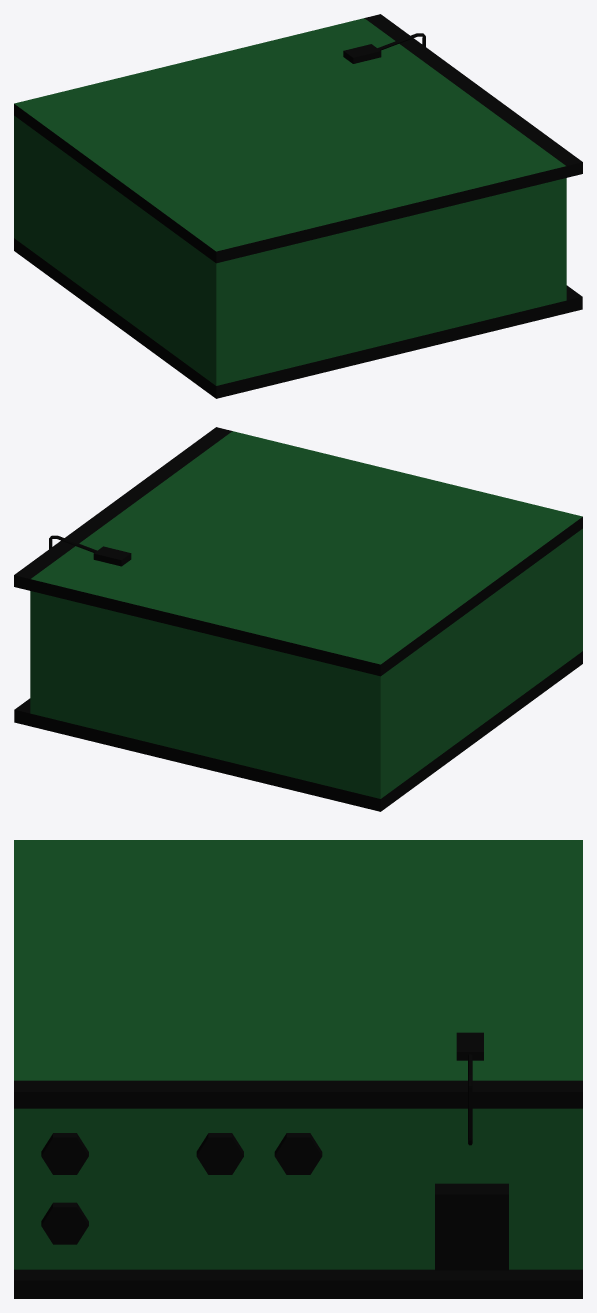
File: radio.fbx
3 renders of one model, top to bottom at view 1: azimuth 30°, elevation 25°; view 2: azimuth 150°, elevation 25°; view 3: azimuth 270°, elevation 25°, orthographic. The views are drawn at different scales.
Parts seen in each view (by area): view 1: Cube; view 2: Cube; view 3: Cube.
Part boxes in pixels (x1=…): Cube: x1=14, y1=14, x2=582, y2=398; Cube: x1=14, y1=427, x2=582, y2=811; Cube: x1=14, y1=840, x2=582, y2=1298.
Bounding box in the file's own units: 98.34 × 39.97 × 92.73.
